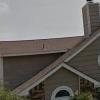Chimney: (79, 2, 99, 38)
